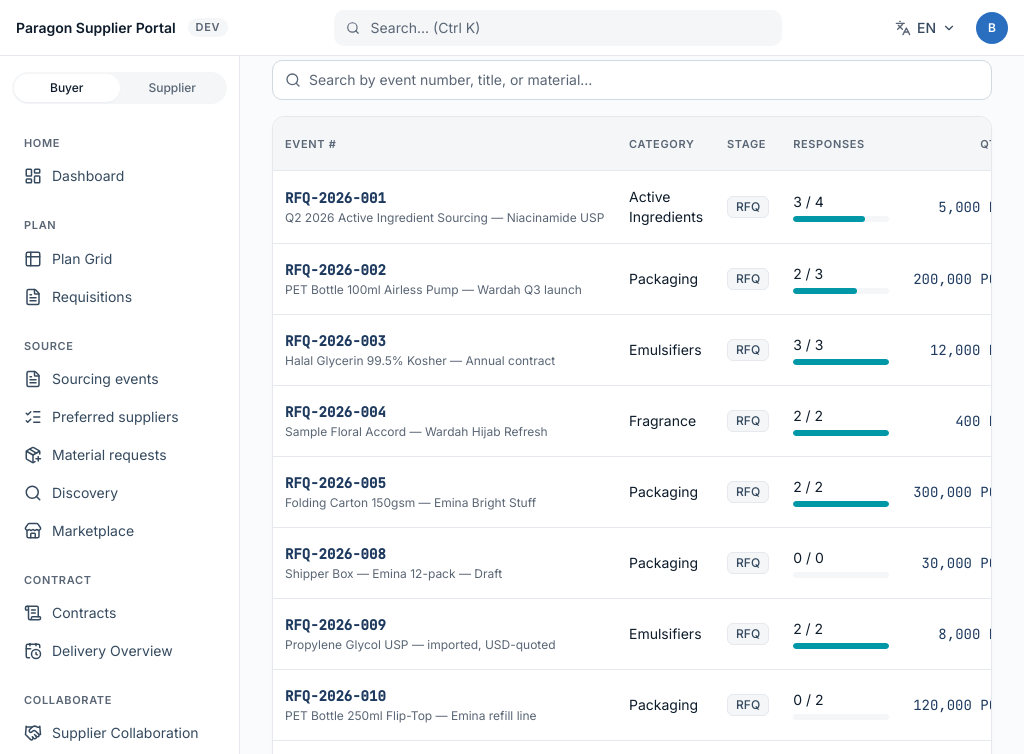
§76 · the drawer — reopen (Closed only) › WITHHELD: a receiving seat reads reopen AND cancel as TWO separate acts
(page scrolled)
Click the text "RFQ-2026-004": (335, 412) [285, 403, 386, 421]
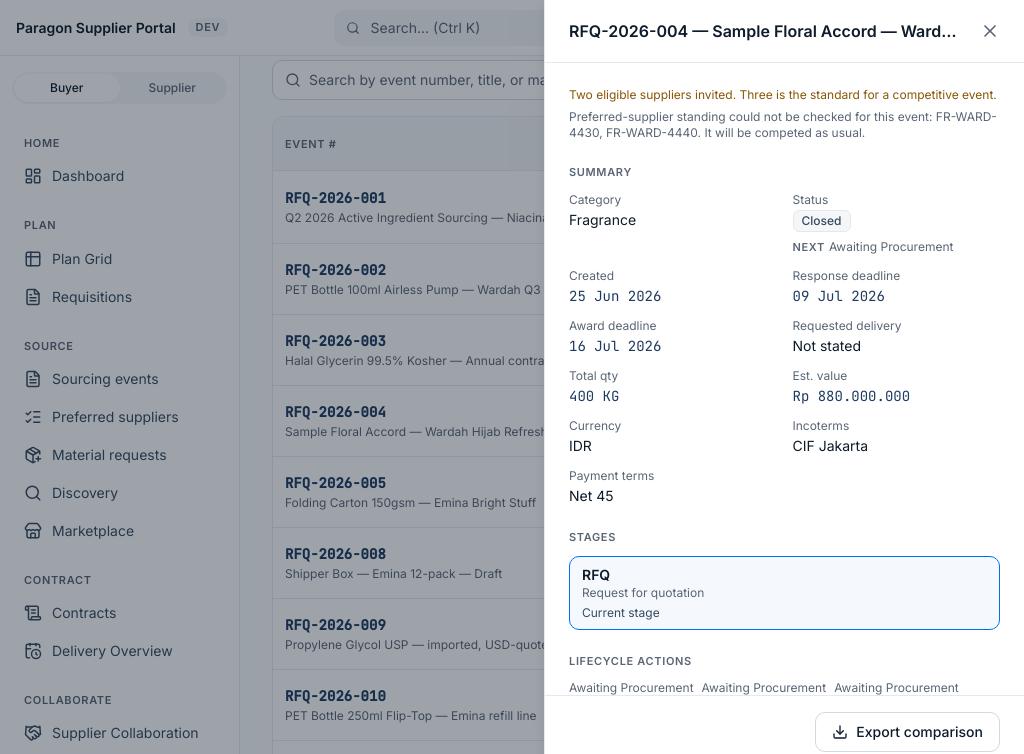
Expected: the text with test id "handoff-rfq-reopen" reads "Awaiting Procurement", [569, 680, 694, 695]
Expected: the text with test id "handoff-rfq-cancel" reads "Awaiting Procurement", [834, 680, 959, 695]
